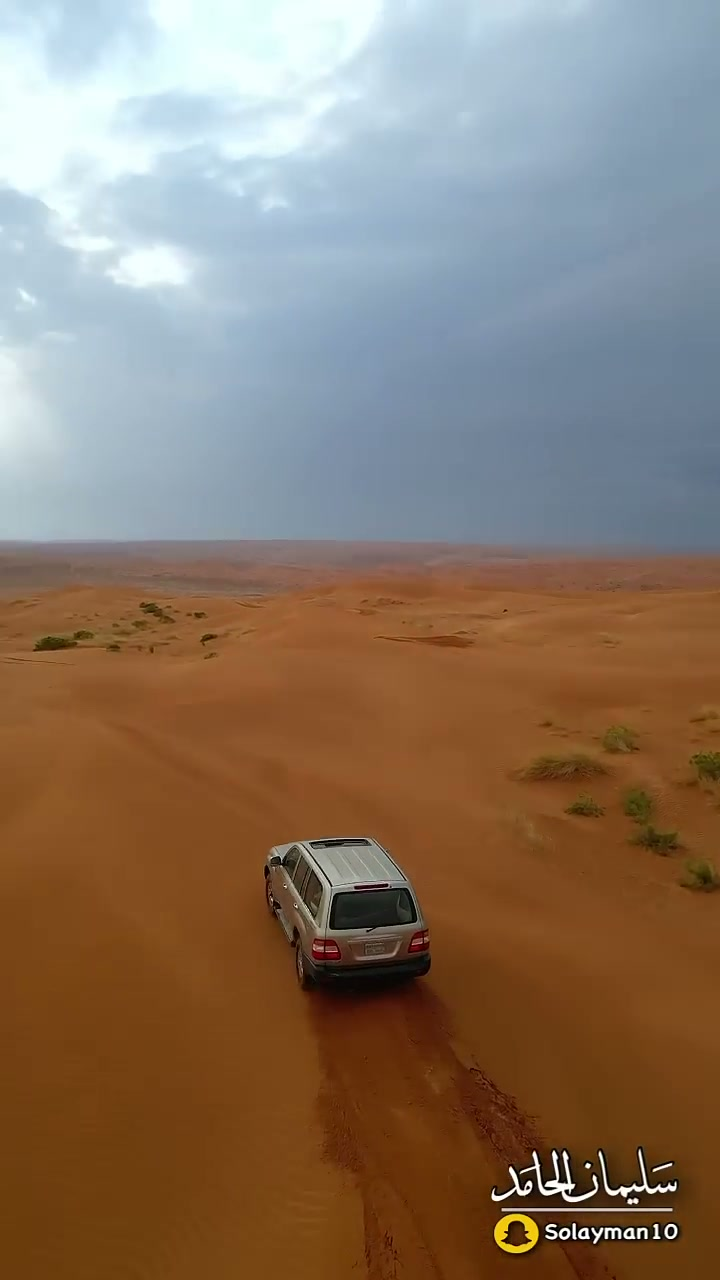vehicle_track: (313, 987, 542, 1279)
